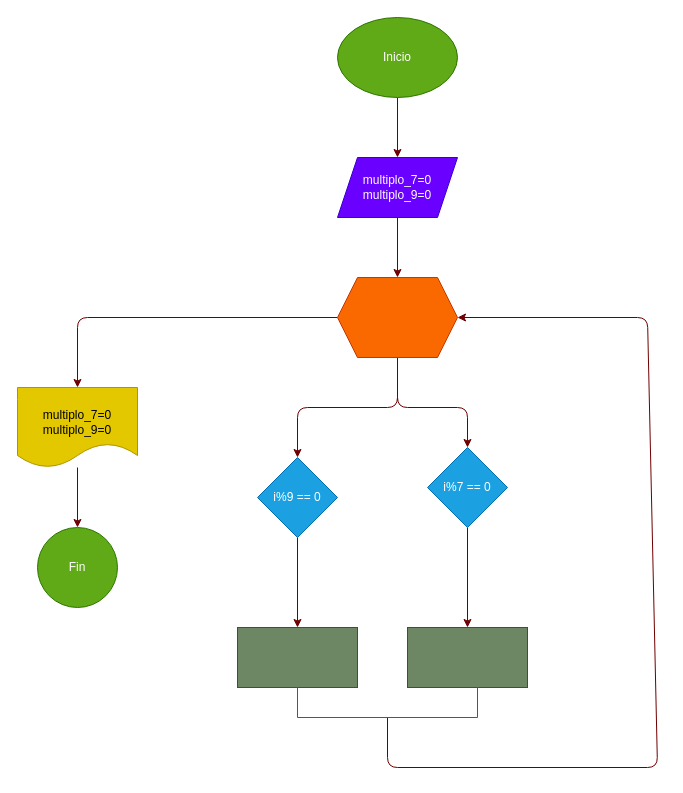
Image size: 683x793. Some labels were removed from this diagram. The shapes that lost their labels are listed below. From the top down, each one's box as (x1, y1, x2, y2) in pixels, then its label:
(336, 276, 458, 358): Desde i =1000 hasta i < 5001
(236, 626, 358, 688): multiplo_9
(406, 626, 528, 688): multiplo_7
